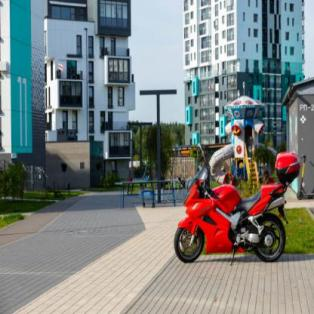Motocicleta: (177, 141, 291, 270)
